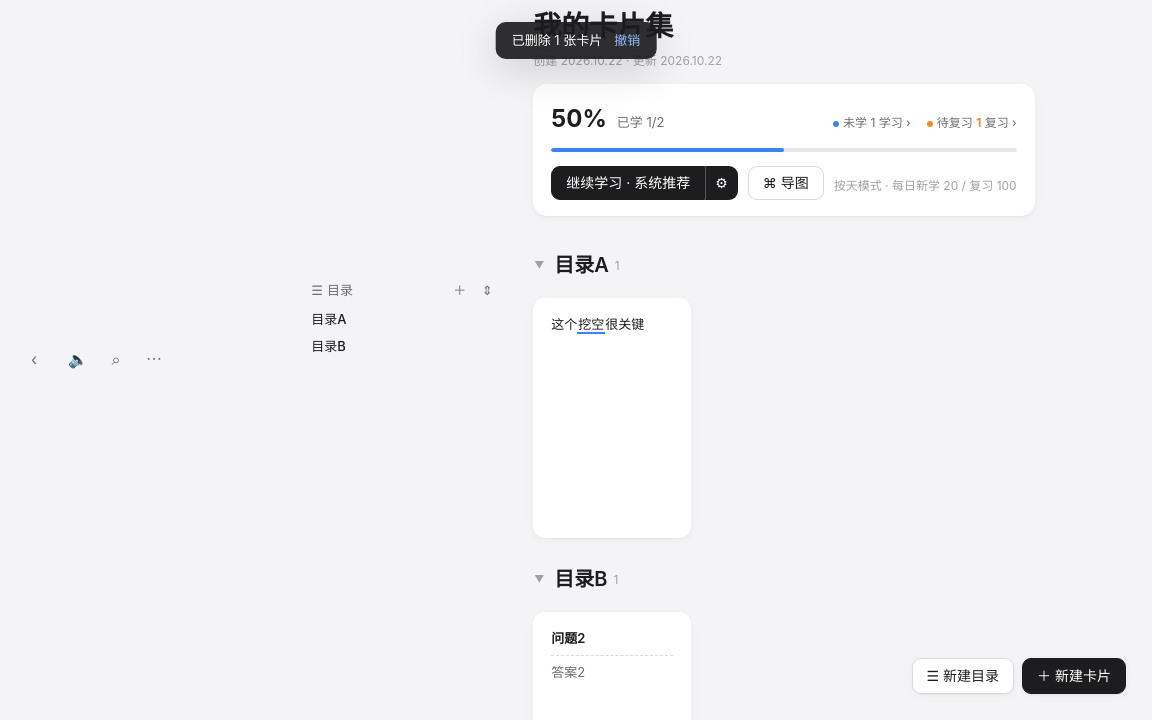
Test: 卡片集页 › 搜索只留命中的卡片并高亮
Expected: the field showing "我的卡片集" is shown, [533, 4, 1035, 49]
Click the button with class "icon-btn" showing "⌕" at [116, 360], box [100, 344, 132, 376]
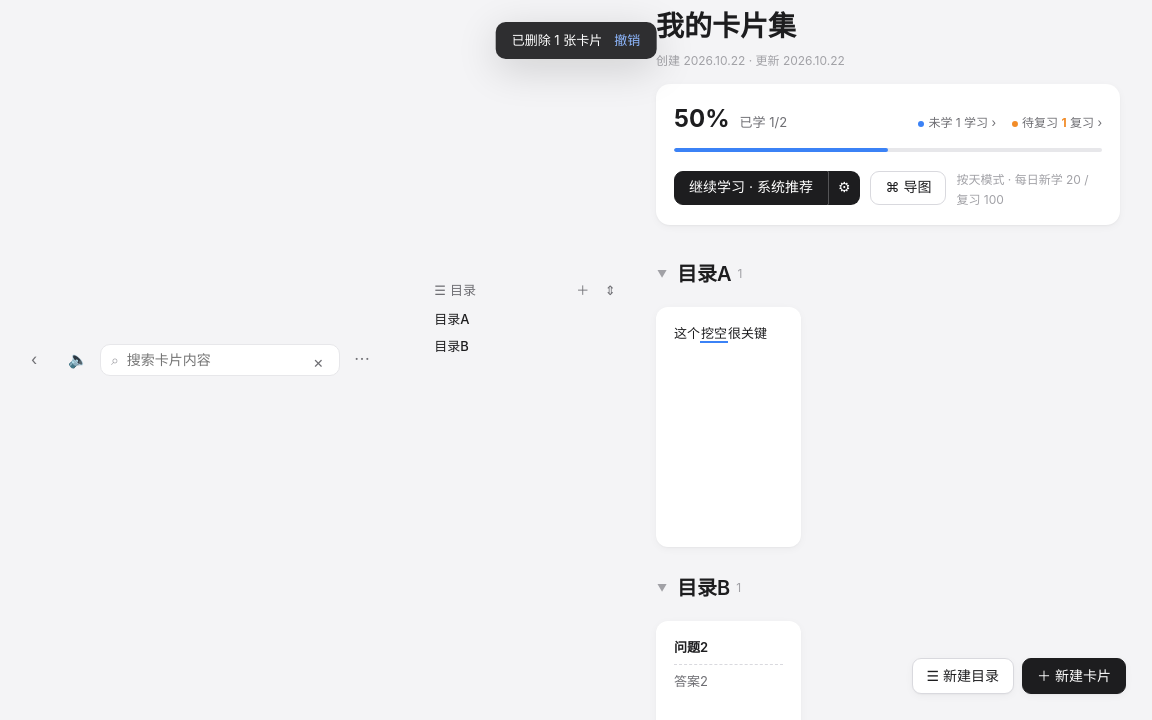
Expected: the field with id "deck-search" is shown
Type "挖空" into the field with id "deck-search" at [213, 360], box [125, 348, 301, 372]
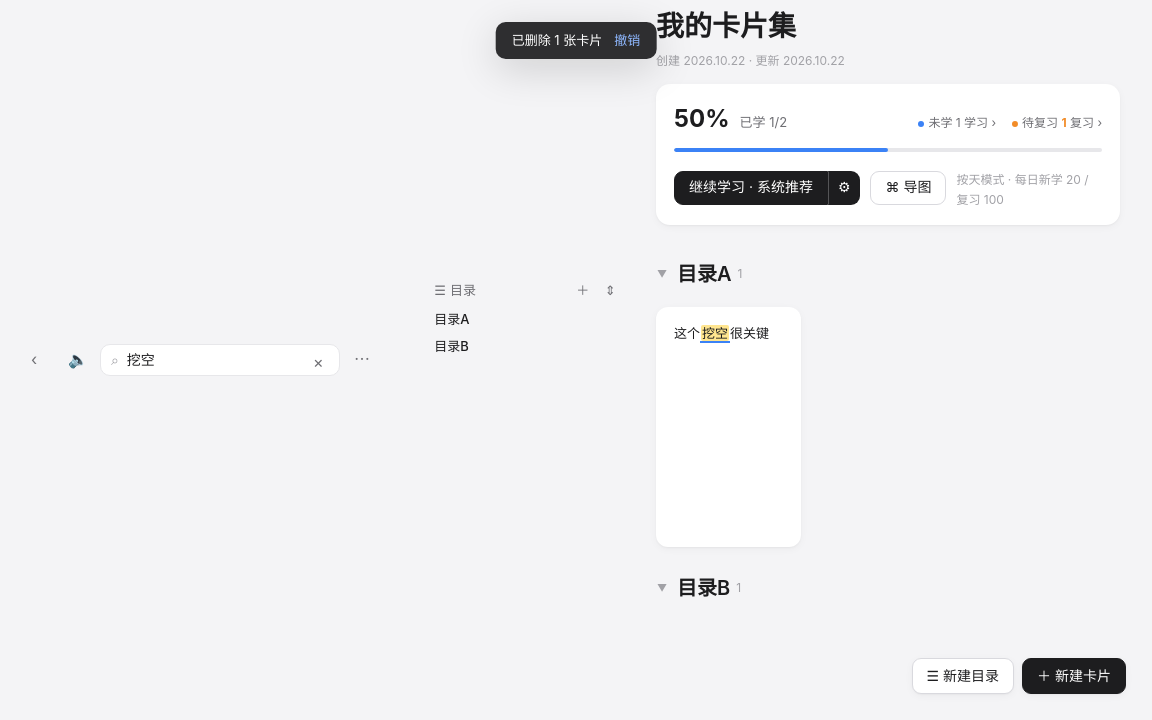
Expected: the text "这个挖空很关键" is shown, [674, 323, 783, 344]
Expected: the text "问题2" is gone
Expected: the number of elements with class "mini-card" is 1, [656, 307, 801, 547]
